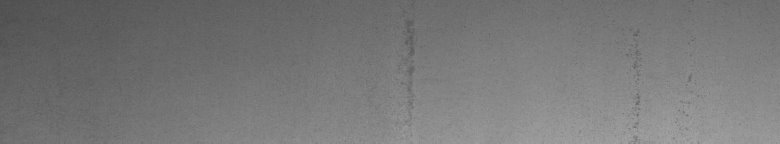ib: (628, 29, 696, 129)
